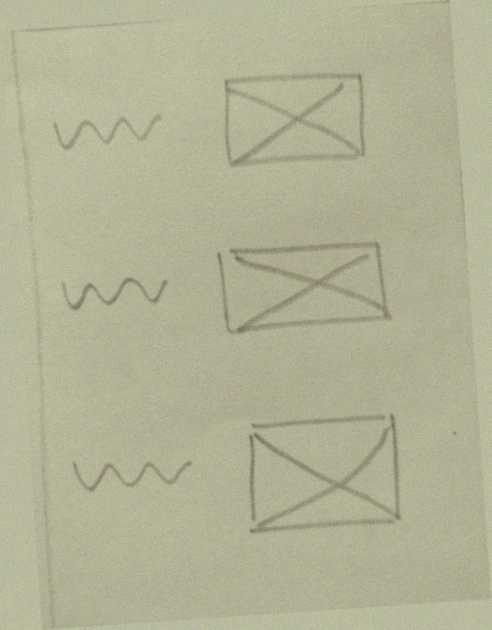image: (233, 405, 411, 544), (210, 225, 401, 346), (211, 56, 375, 180)
text: (62, 435, 200, 502), (44, 93, 169, 164), (53, 250, 178, 321)
